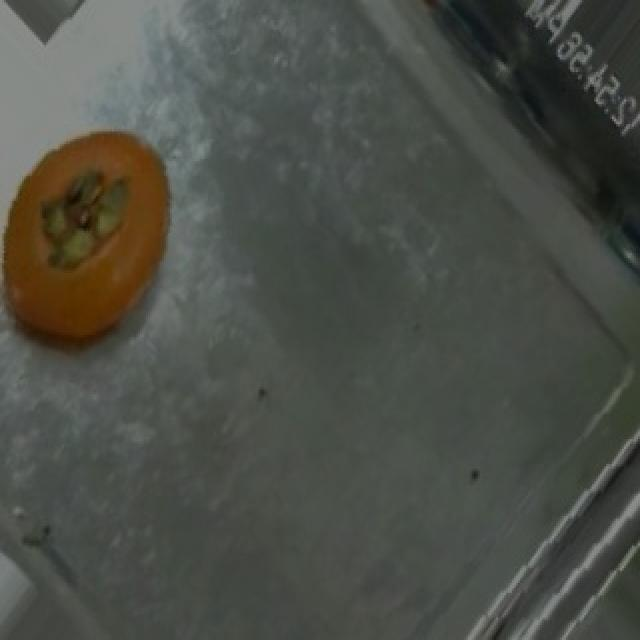Fruit: (0, 104, 202, 370)
